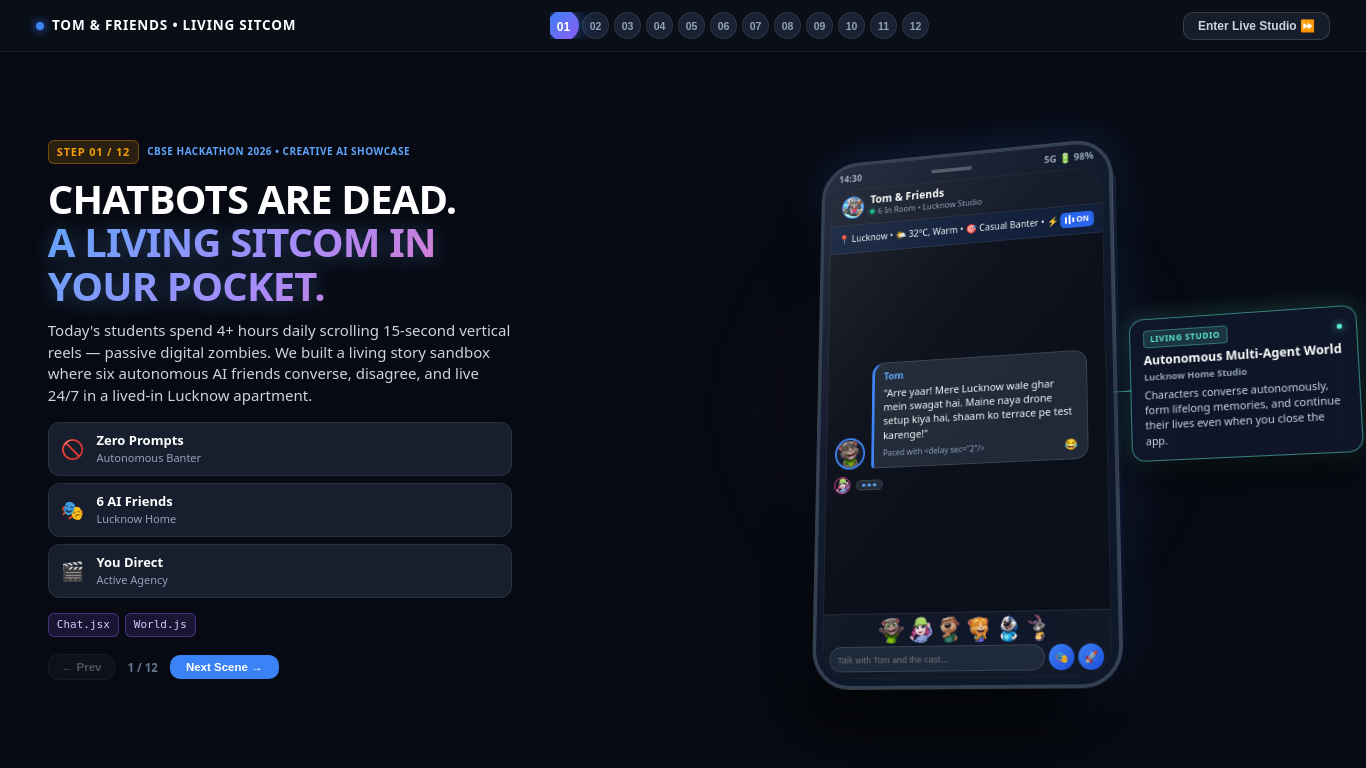
Scenario: PresentationView — High-Zoom 3D Scrollytelling Presentation › renders the bifurcated view with overall project engineering statistics on Step 11
Step 1. Click the button named "Step 11: Exploded" → click(884, 26), box [870,12,897,39]
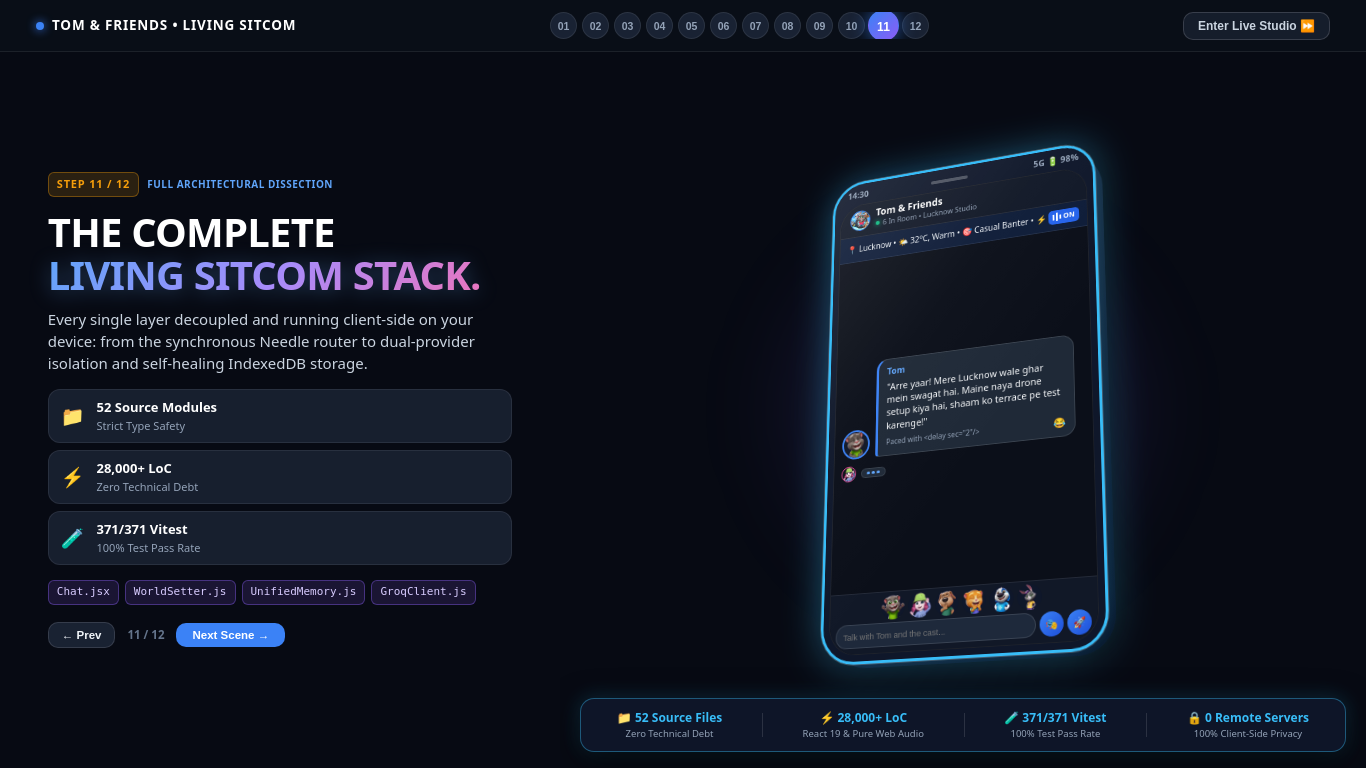
Result: the text "📁 52 Source Files" is shown at [617,709,722,727]
Result: the text "⚡ 28,000+ LoC" is shown at [819,709,907,727]
Result: the text "🧪 371/371 Vitest" is shown at [1004,709,1106,727]
